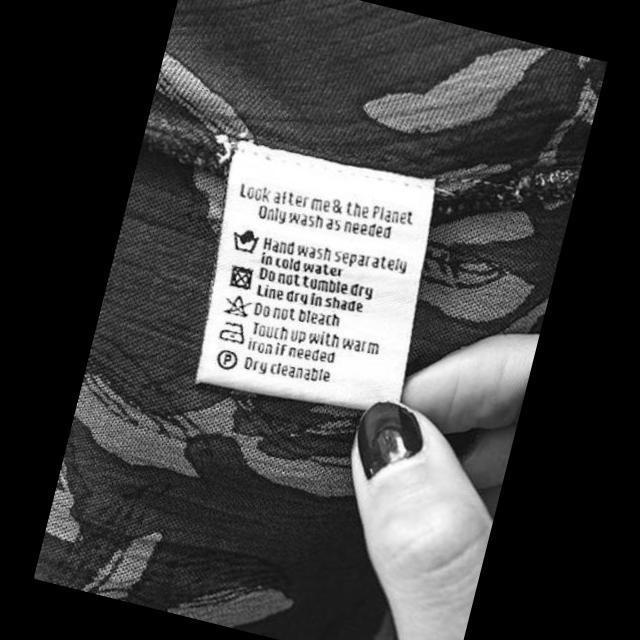DN_bleach: (220, 291, 254, 322)
DN_tumble_dry: (224, 260, 256, 292)
hand_wash: (228, 224, 262, 256)
iron_low: (216, 316, 249, 346)
normal_dry_clean_solvents: (212, 346, 241, 373)
